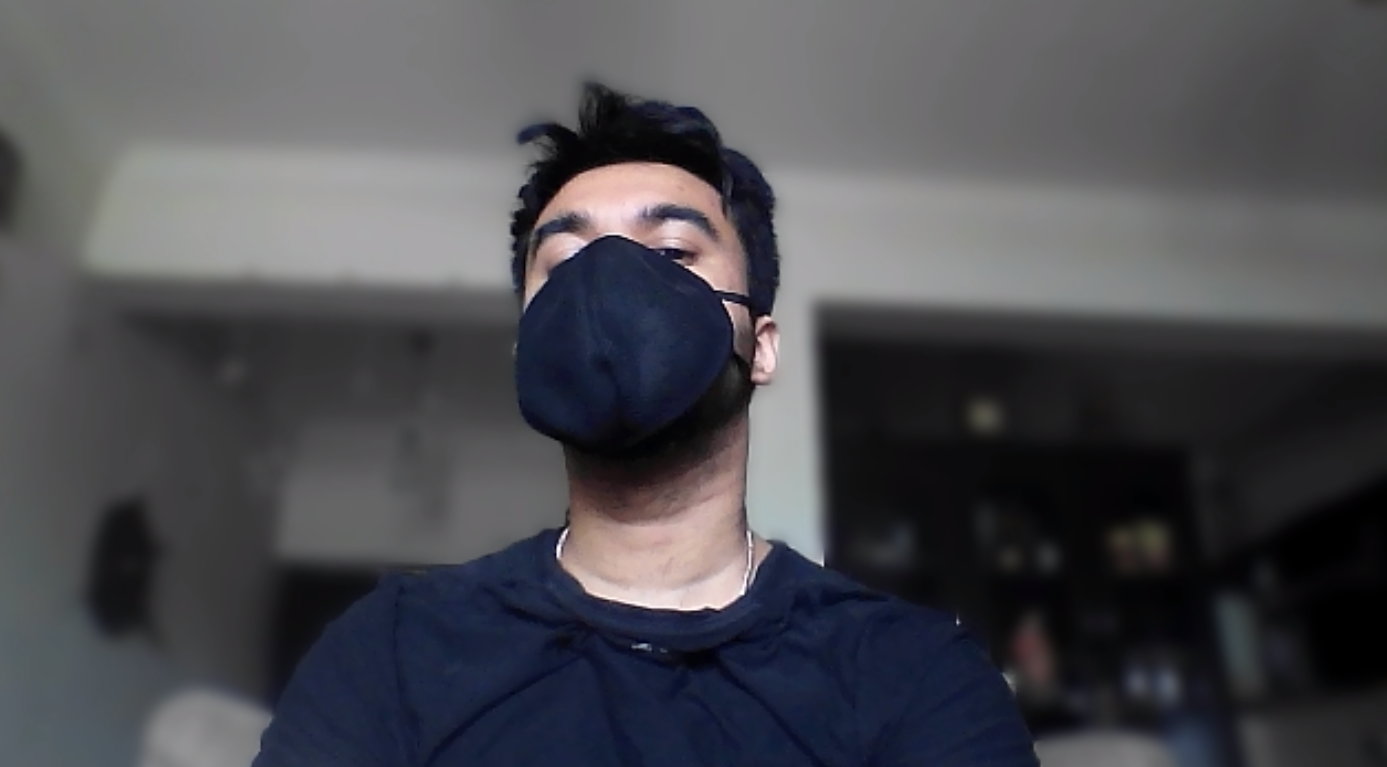Mask: (518, 250, 744, 446)
